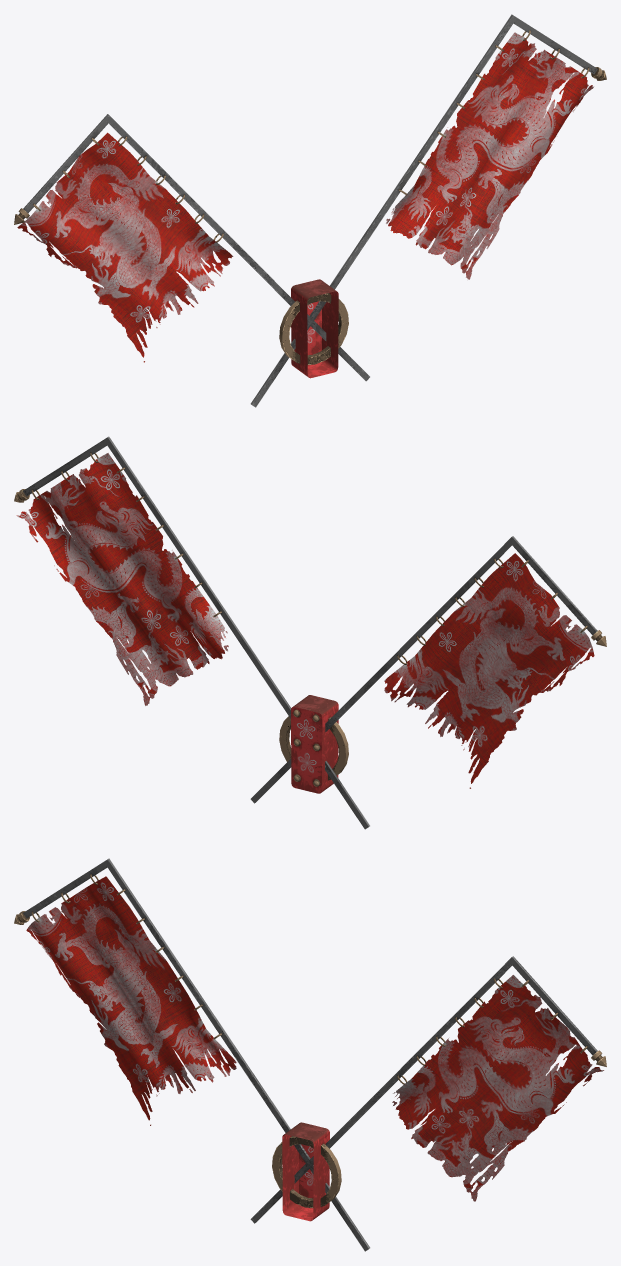
The model's file is BACK_CHIBI_BANNERS.fbx.
3 renders of one model, top to bottom at view 1: azimuth 30°, elevation 25°; view 2: azimuth 150°, elevation 25°; view 3: azimuth 330°, elevation 25°, orthographic.
Visible parts, largest first — view 1: BACK_CHIBI_FLAG_BANNERS; view 2: BACK_CHIBI_FLAG_BANNERS; view 3: BACK_CHIBI_FLAG_BANNERS.
Boxes of the visible parts, x1,y1,x2,y2 form: BACK_CHIBI_FLAG_BANNERS: [14, 14, 606, 407]; BACK_CHIBI_FLAG_BANNERS: [14, 436, 606, 829]; BACK_CHIBI_FLAG_BANNERS: [14, 858, 606, 1251].
Size of the model in its own units: 0.1417 by 0.0754 by 0.00759.
